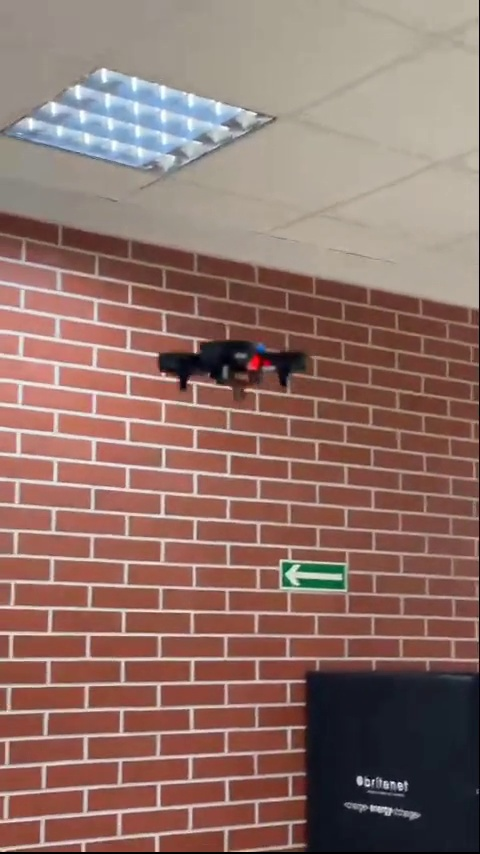drone: (158, 342, 303, 403)
